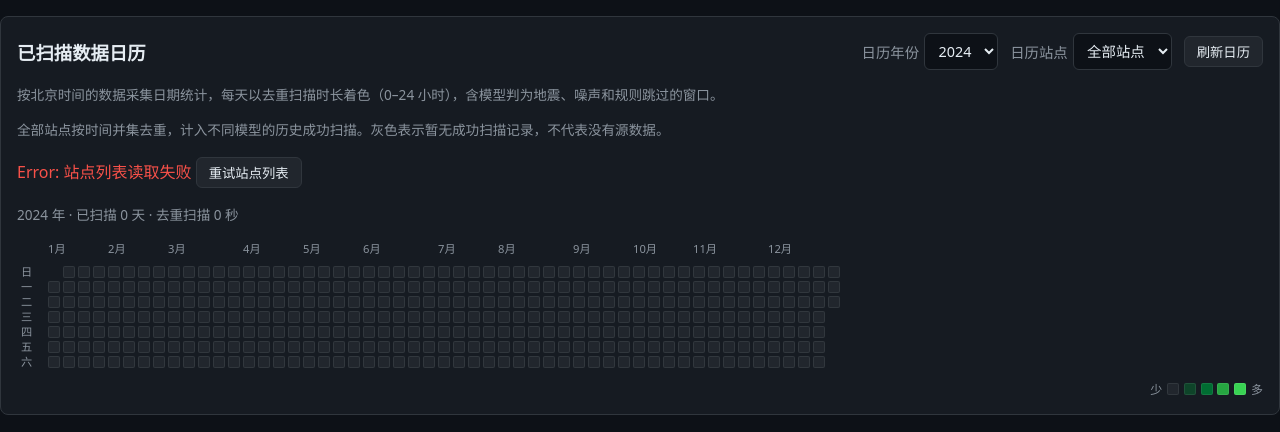
Test case: keeps a site-list failure visible alongside a successful calendar and retries the site list
Expected: the button named "2024-01-01" is shown, [48,281,60,293]
Expected: the message shows "站点列表读取失败", [17,161,192,183]
Click the button "重试站点列表" at (249, 172), box [196,157,302,188]
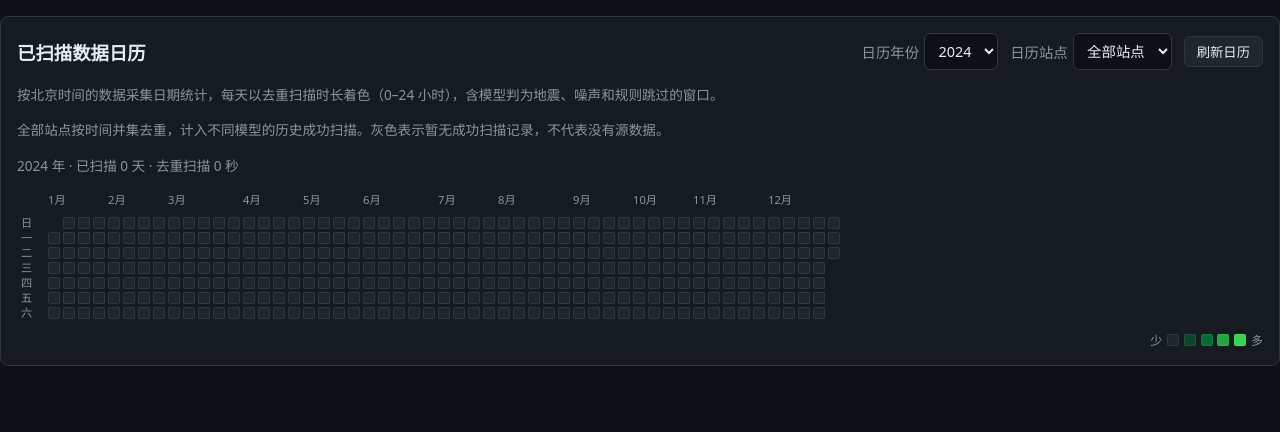
Expected: the message "Error: 站点列表读取失败 重试站点列表" is gone
